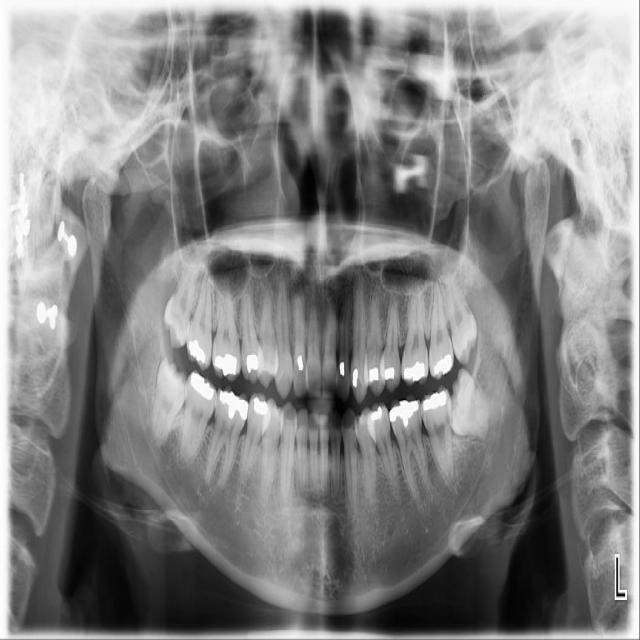3M ESPE Implant: (158, 255, 204, 350)
52: (173, 370, 229, 424), (211, 384, 250, 431), (242, 390, 274, 437), (390, 395, 421, 438), (421, 385, 451, 429), (185, 323, 212, 371), (211, 338, 241, 381), (427, 338, 456, 379), (237, 346, 267, 382), (400, 347, 428, 385), (362, 350, 385, 395), (380, 350, 402, 393), (367, 401, 390, 442), (351, 356, 367, 402), (291, 354, 308, 394), (337, 359, 350, 398)
73: (544, 565, 550, 579)
BioHorizons Implant: (422, 279, 456, 378)
BioLife Implant: (443, 266, 480, 365)
Biomet 3i Implant: (447, 366, 492, 440)
Blue Sky Bio Implant: (420, 385, 455, 486)
Caries: (184, 268, 212, 372)
Implant: (179, 369, 220, 467)
Keystone Dental Implant: (146, 357, 191, 448)
